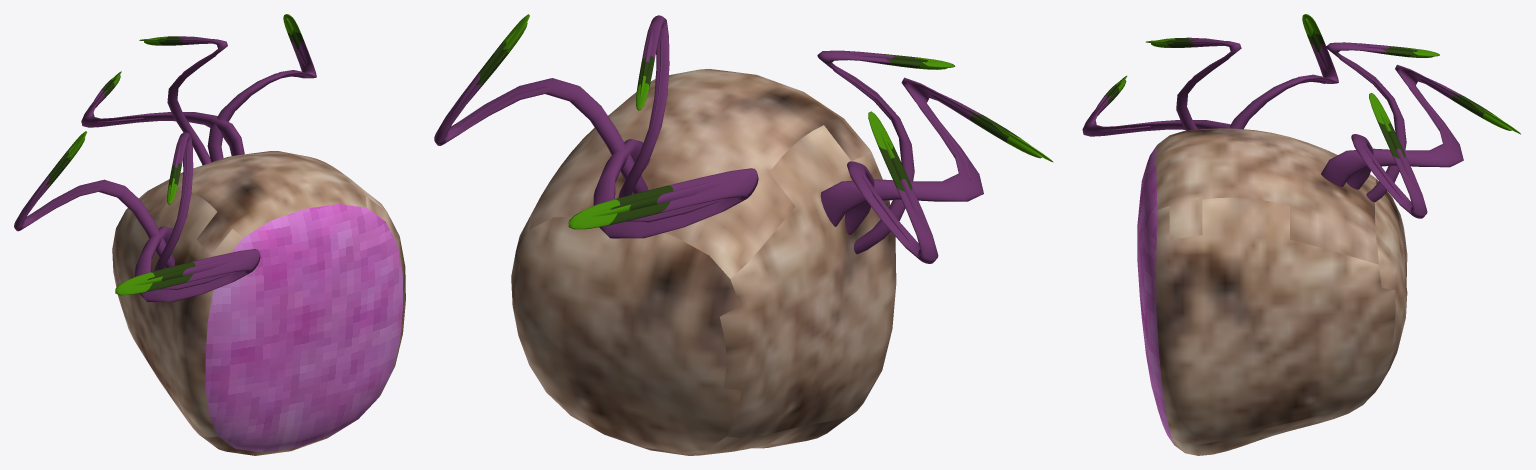
File: yam_seed.glb
3 renders of one model, left to right at view 1: azimuth 30°, elevation 25°; view 2: azimuth 150°, elevation 25°; view 3: azimuth 270°, elevation 25°, orthographic. The views are drawn at different scales.
Visible parts, largest first — view 1: Plane, Plane.006, Plane.005, Plane.002, Plane.003, Plane.004, Plane.001; view 2: Plane, Plane.003, Plane.006, Plane.002, Plane.005, Plane.004, Plane.001; view 3: Plane, Plane.003, Plane.002, Plane.001, Plane.005, Plane.006, Plane.004.
Boxes of the visible parts, left/top/right/bottom form: Plane: left=112, top=151, right=405, bottom=455; Plane.006: left=115, top=226, right=260, bottom=302; Plane.005: left=14, top=131, right=174, bottom=268; Plane.002: left=207, top=14, right=316, bottom=162; Plane.003: left=81, top=71, right=244, bottom=155; Plane.004: left=154, top=132, right=193, bottom=271; Plane.001: left=139, top=36, right=227, bottom=165; Plane: left=511, top=69, right=896, bottom=455; Plane.003: left=568, top=139, right=758, bottom=238; Plane.006: left=820, top=77, right=1053, bottom=226; Plane.002: left=434, top=14, right=648, bottom=193; Plane.005: left=844, top=111, right=938, bottom=263; Plane.004: left=817, top=50, right=955, bottom=254; Plane.001: left=618, top=15, right=669, bottom=197; Plane: left=1137, top=128, right=1407, bottom=455; Plane.003: left=1321, top=64, right=1520, bottom=187; Plane.002: left=1346, top=93, right=1427, bottom=218; Plane.001: left=1326, top=42, right=1439, bottom=202; Plane.005: left=1230, top=14, right=1338, bottom=129; Plane.006: left=1082, top=75, right=1230, bottom=136; Plane.004: left=1146, top=37, right=1241, bottom=130.
Bounding box in the file's own units: 3.1 × 3.16 × 3.18.
Materials: 5 (2 with a texture image).
